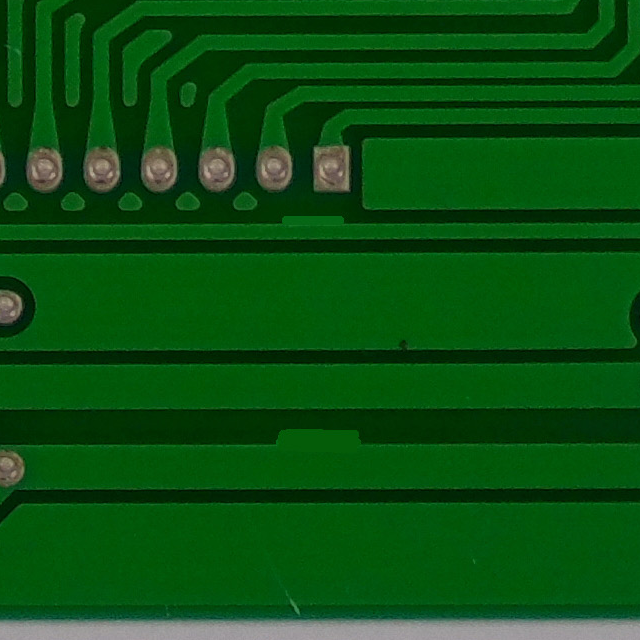spur: (262, 410, 378, 466), (269, 207, 357, 246)
